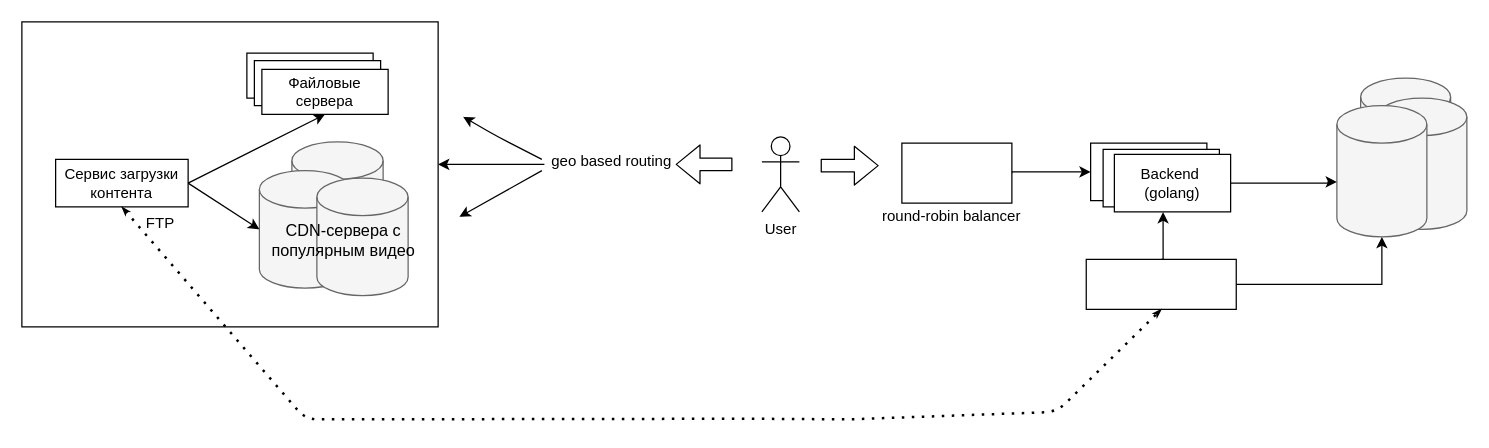
Image size: 1489x448. Some labels were removed from this diagram. The centre of each missing label's shape, as x and y in pixels:
Database (Postgresql): the point at 1381,170
nginx: the point at 956,172
Система подбора рекомендаций: the point at 1160,283
